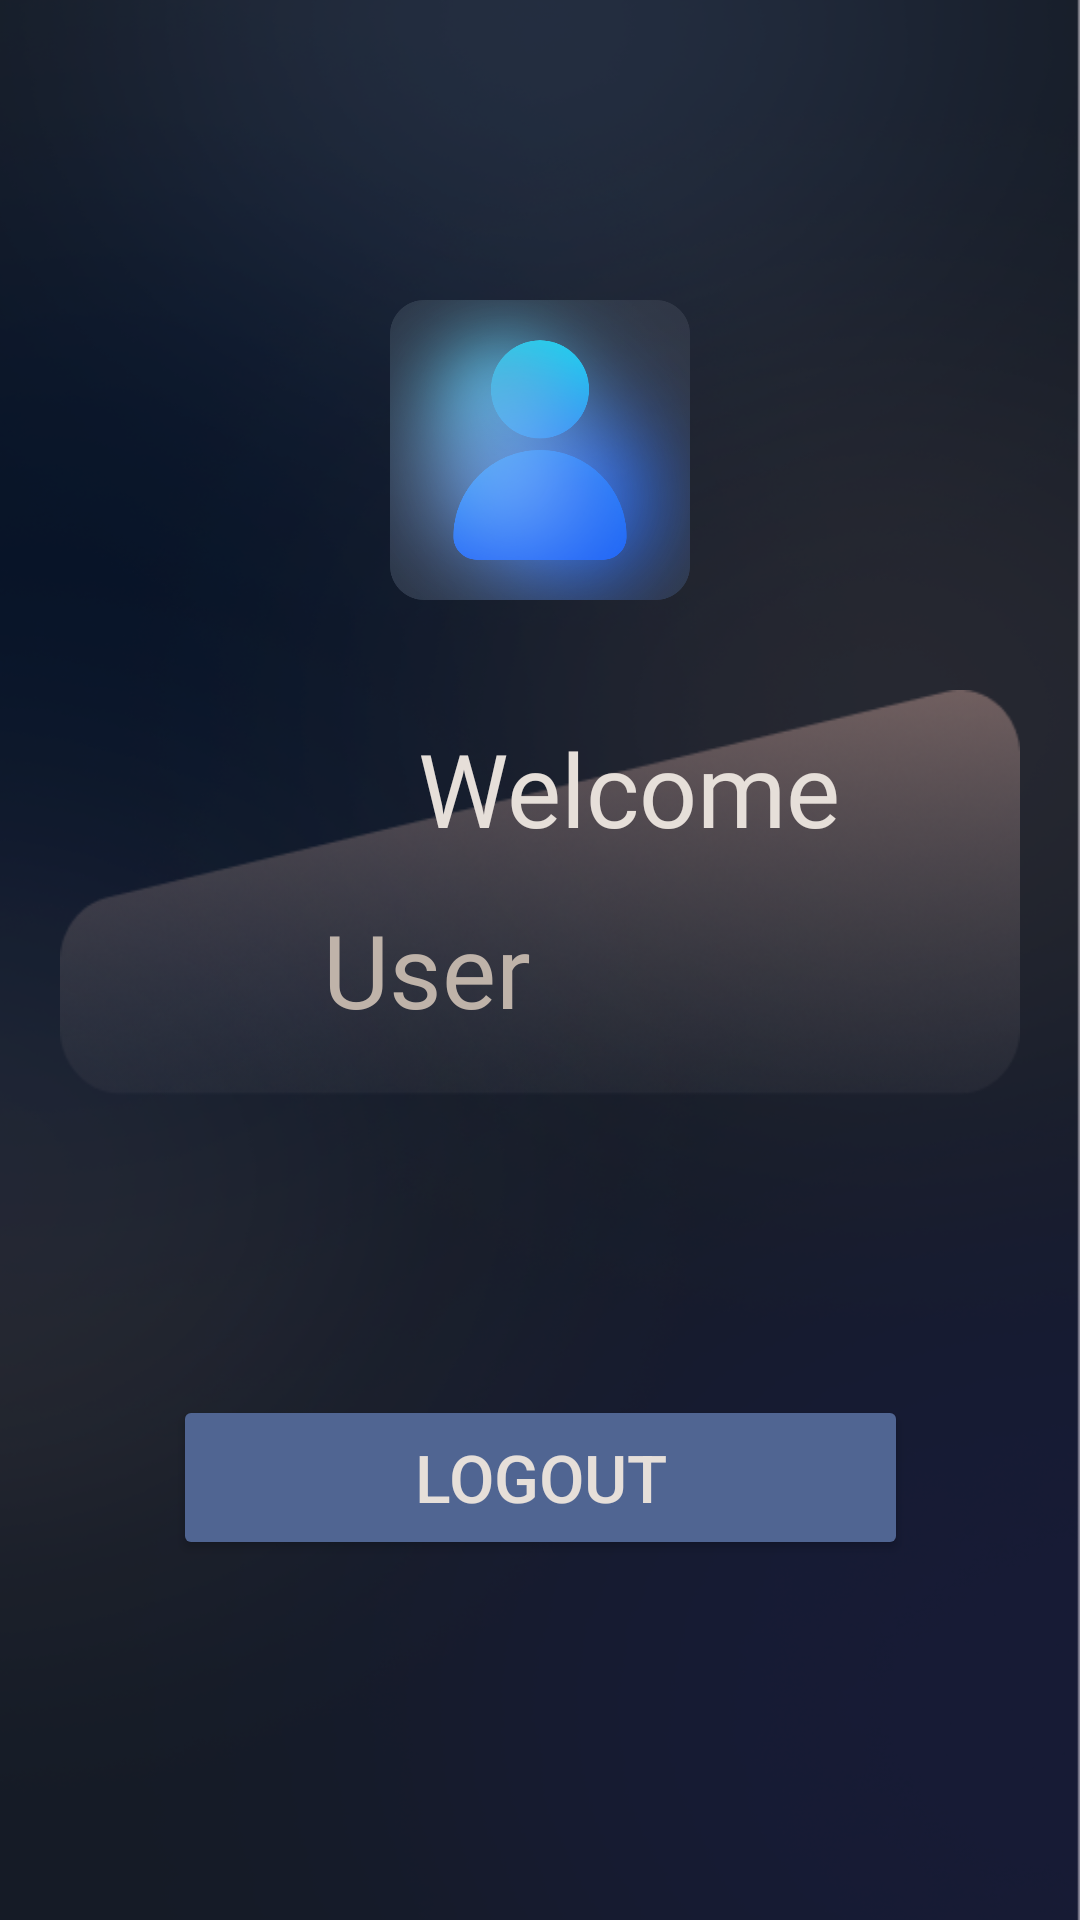

Named icons in this screenshot (1080px×1920px) and their centers, point (x, y):
navbar profile: point (540, 450)
